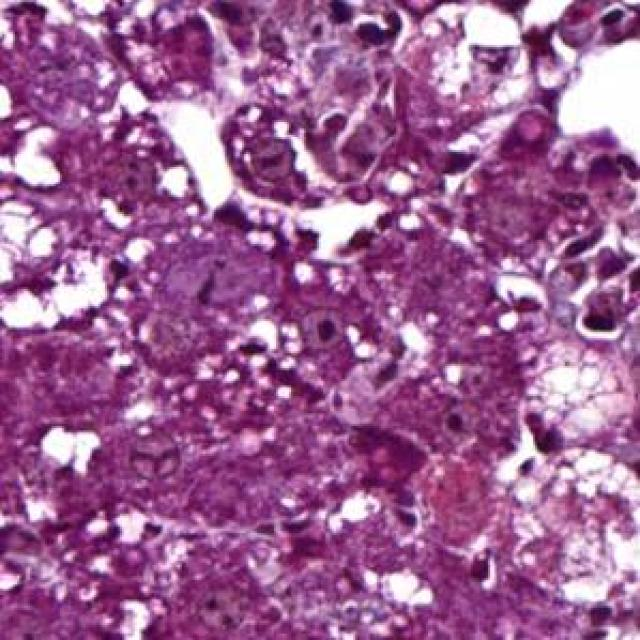ballooning: (503, 445, 640, 610), (0, 197, 116, 340)
